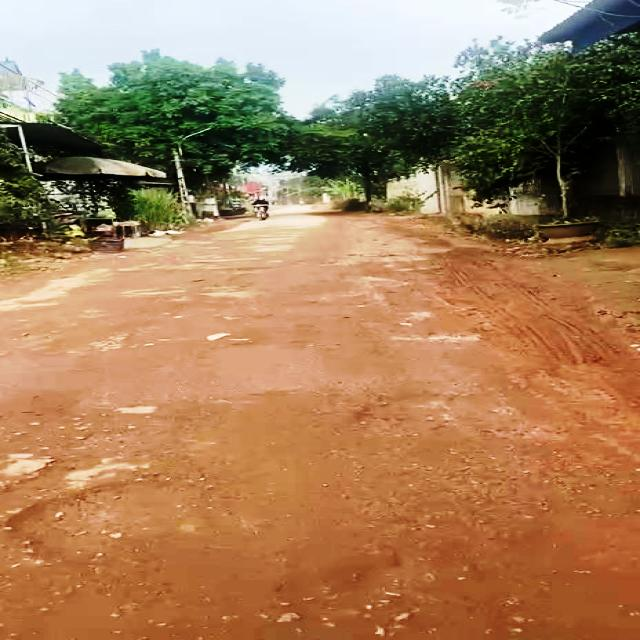pothole: (7, 468, 230, 569)
